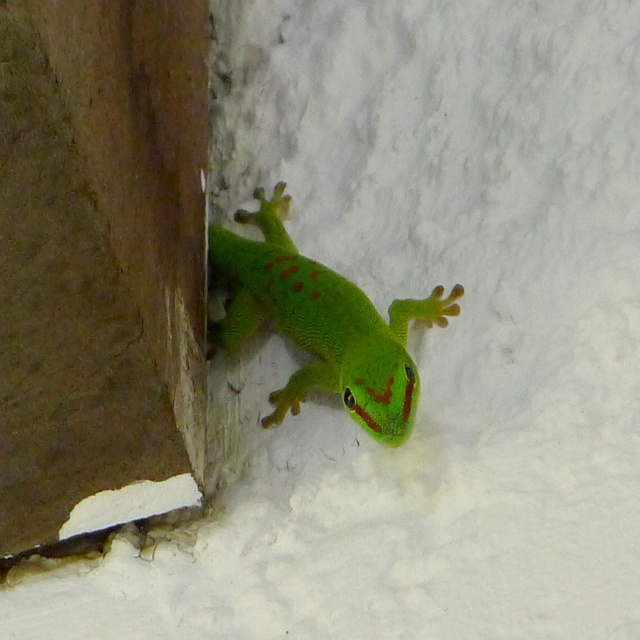Lizard: (194, 197, 455, 483)
